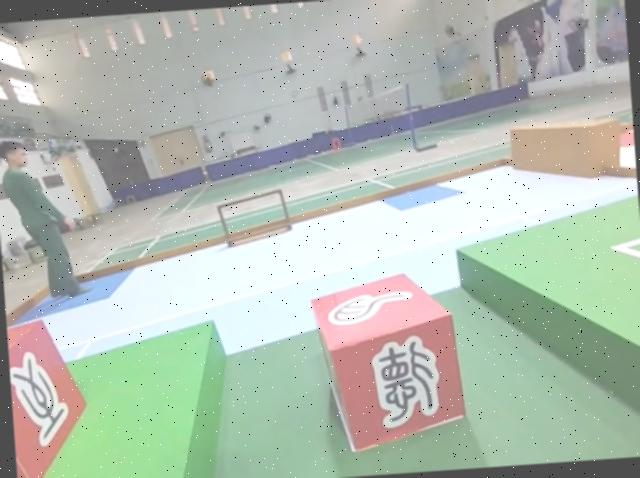R2 Fake: (304, 266, 468, 455), (4, 309, 94, 478)
